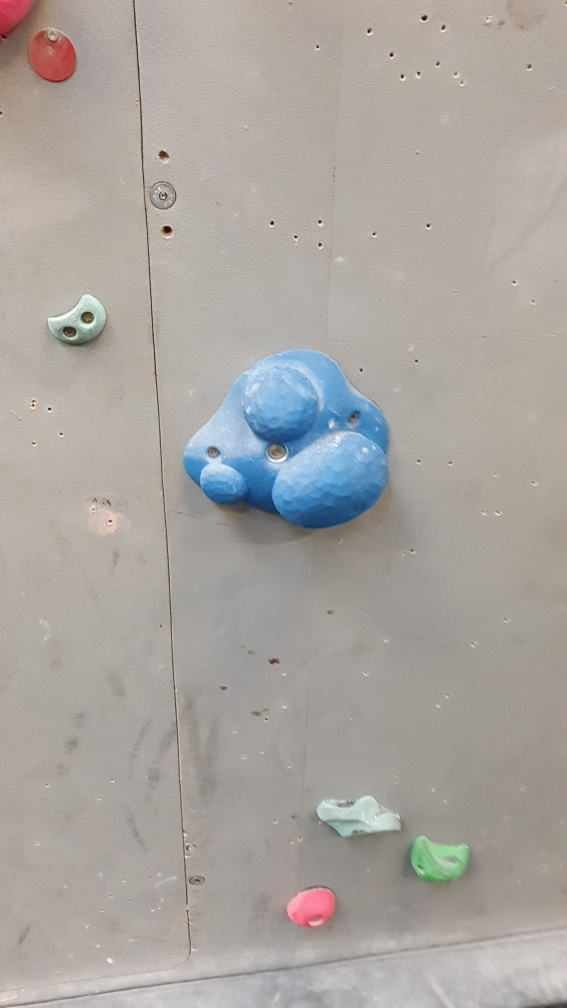Sloper: (184, 344, 394, 533)
